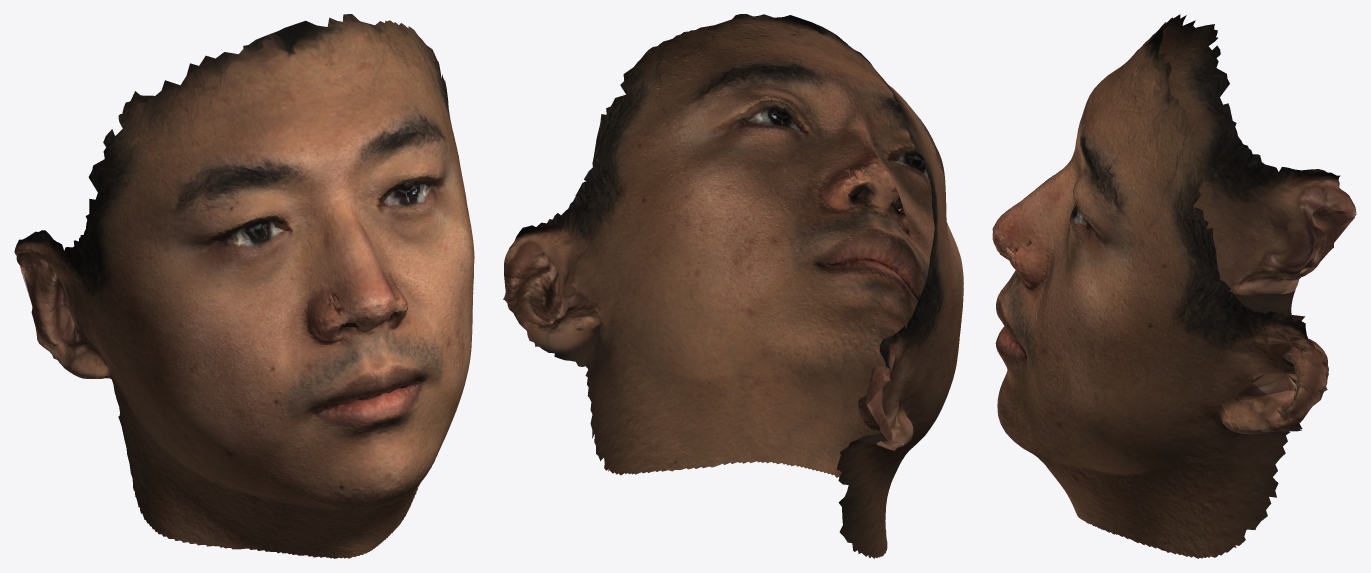
File: predicted_face.obj
3 views of the same model, side by side, from view 1: azimuth 30°, elevation 25°; view 2: azimuth 150°, elevation 25°; view 3: azimuth 270°, elevation 25° (orthographic). The views are drawn at different scales.
Bounding box in the file's own units: 0.1975 × 0.2361 × 0.1646.
Materials: 1 (1 with a texture image).
